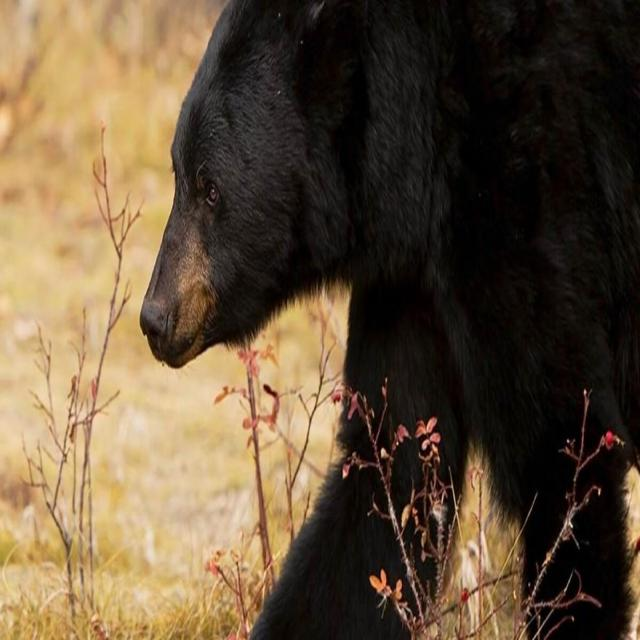Bear: (139, 0, 640, 640)
